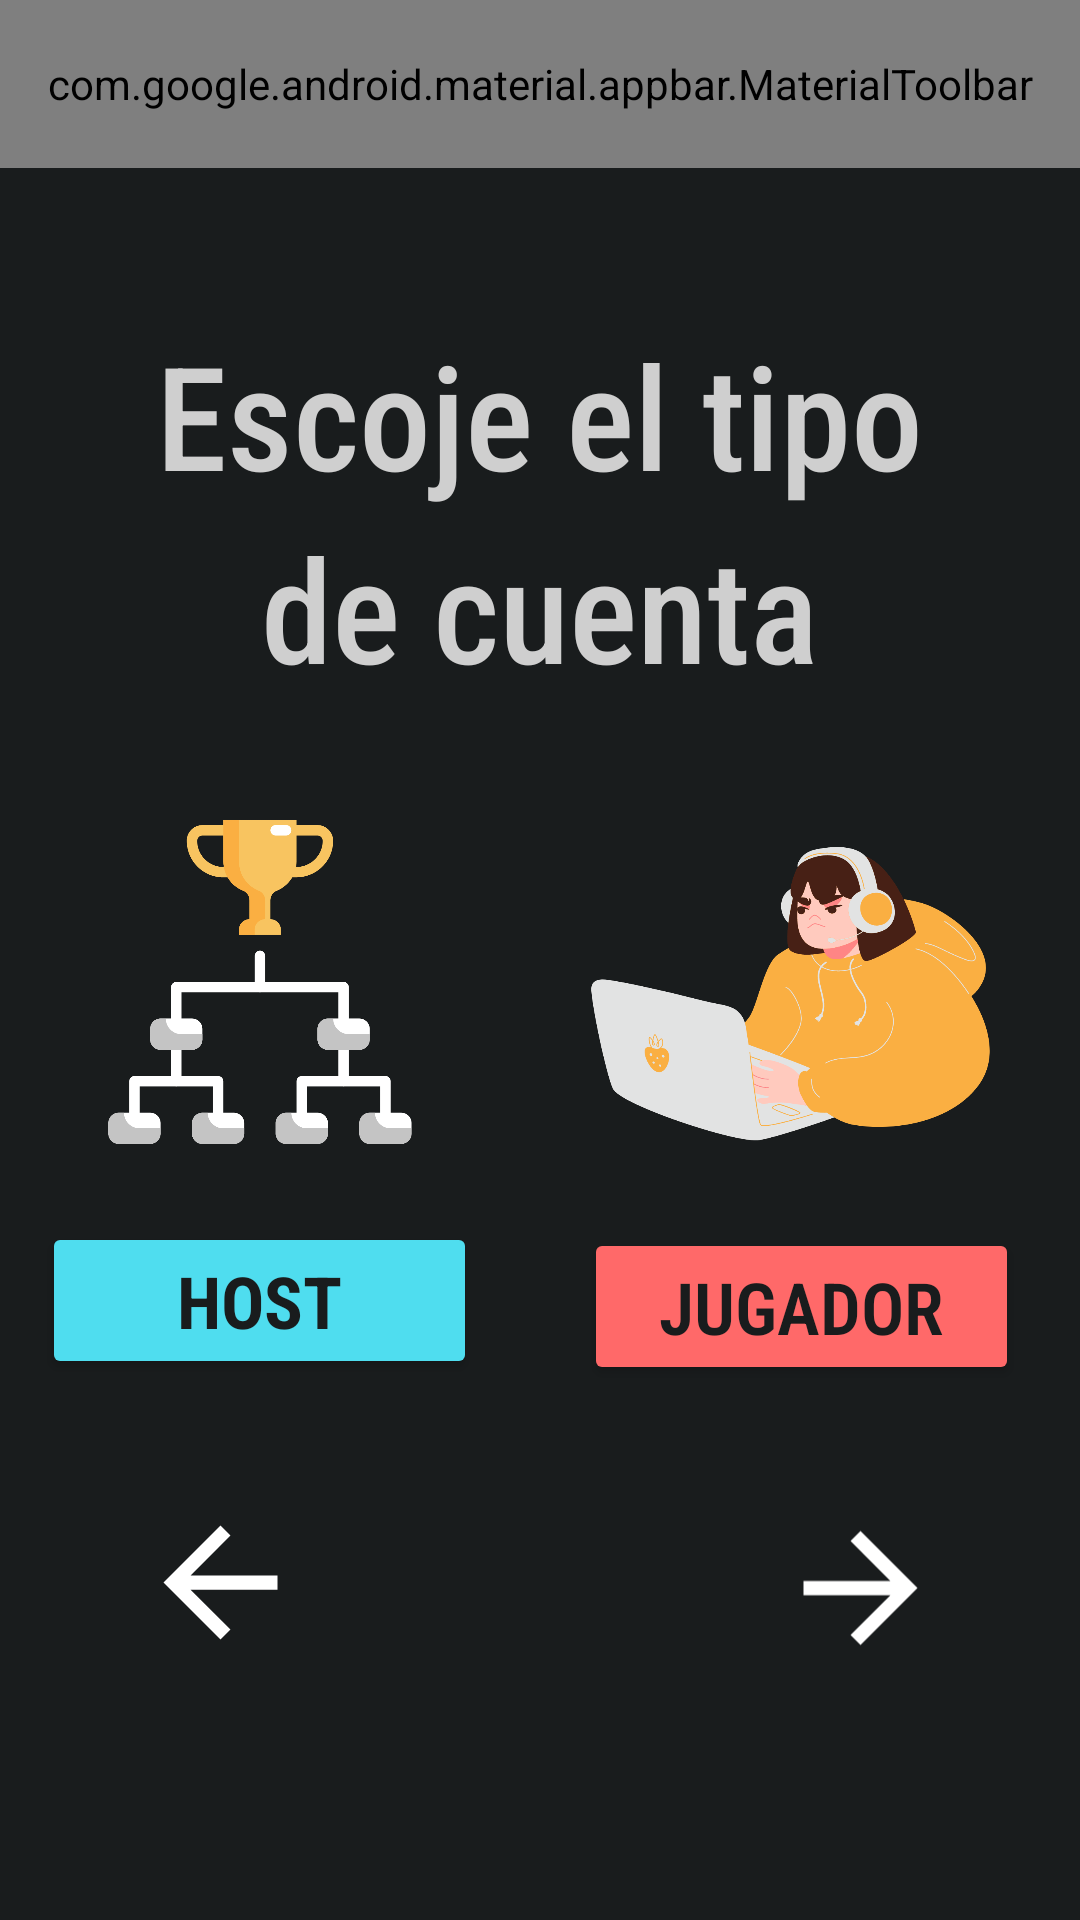

Where to tap for icons on this 1080 x 1920 app screen, as (x,y):
tournament: (260,982)
